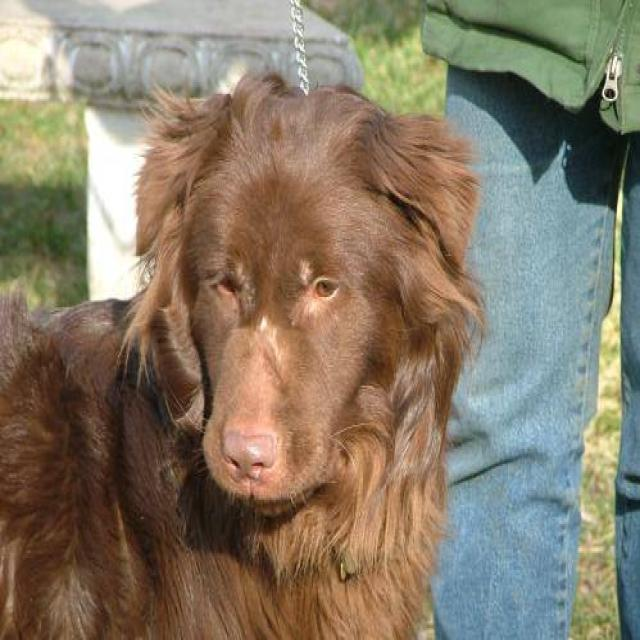Dog: (126, 63, 472, 512)
